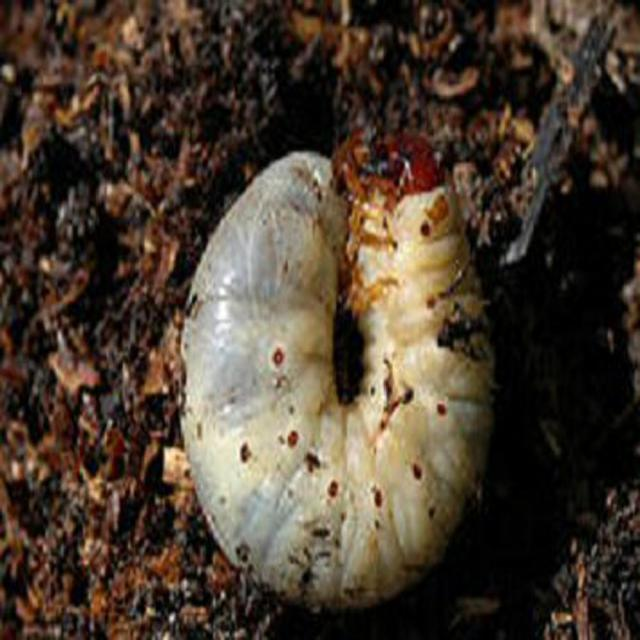Grub-Adult-: (105, 79, 518, 616)
